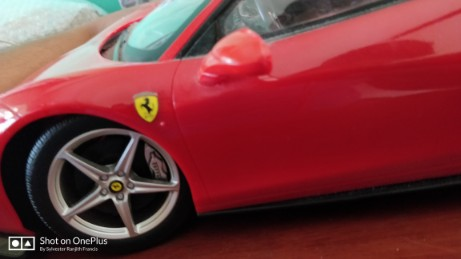unaligned_wheel: (11, 110, 206, 253)
